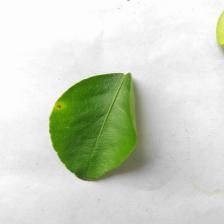greening: (48, 70, 142, 183)
